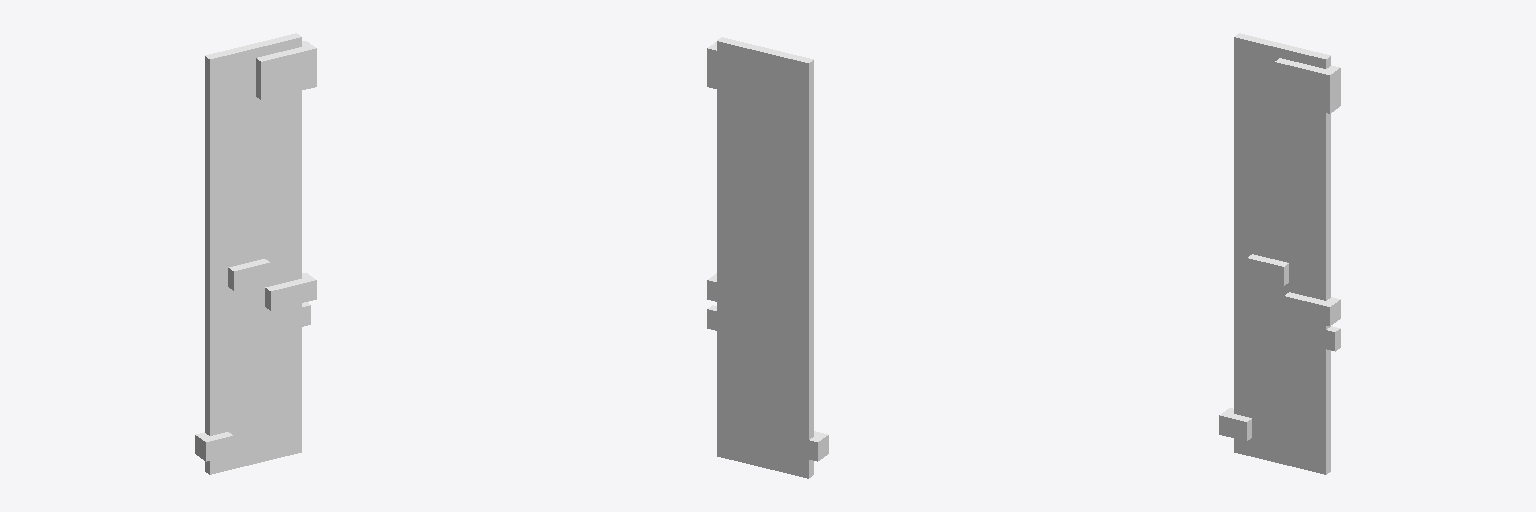
Rendered from ExtraProp-6-Wall_2.obj.
The picture shows the model from 3 angles: view 1: azimuth 30°, elevation 25°; view 2: azimuth 150°, elevation 25°; view 3: azimuth 330°, elevation 25°; orthographic projection.
Parts seen in each view (by area): view 1: Wall_2; view 2: Wall_2; view 3: Wall_2.
Part boxes in pixels (left/top/right/bottom): Wall_2: left=195, top=33, right=316, bottom=474; Wall_2: left=707, top=37, right=828, bottom=478; Wall_2: left=1219, top=33, right=1340, bottom=474.
Bounding box in the file's own units: 1.2 × 4.3 × 0.2.